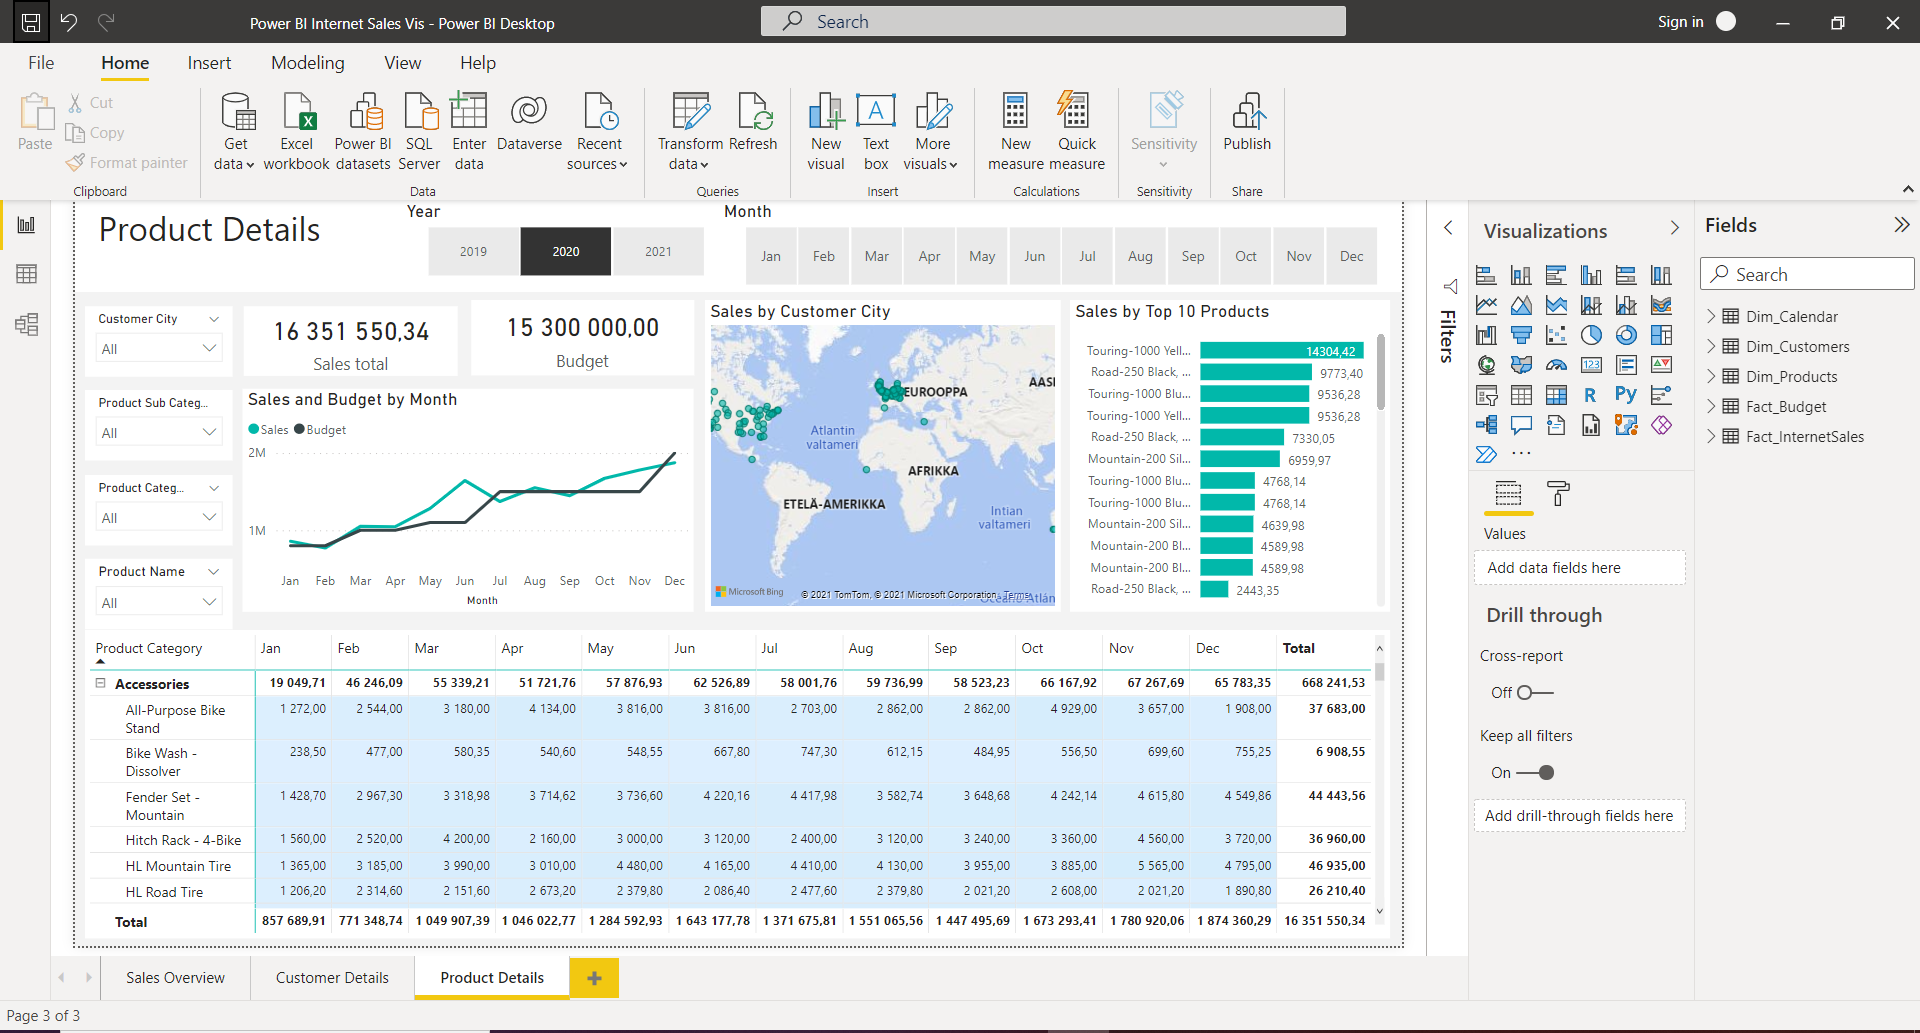

This screenshot's page, from the dashboard's own definition file:
{"tool":"powerbi","page":{"name":"Product Details","canvas":[1280,720],"ordinal":2},"visuals":[{"type":"textbox","box":[0,0,1280,88.5],"z":0},{"type":"slicer","fields":{"Values":["Dim_Customers.Customer City"]},"box":[9.5,101.9,142.7,67.9],"z":1000},{"type":"slicer","fields":{"Values":["Dim_Products.Sub Category"]},"box":[9.5,183.4,142.7,67.9],"z":2000},{"type":"slicer","fields":{"Values":["Dim_Products.Product Category"]},"box":[9.5,265,142.7,67.9],"z":3000},{"type":"slicer","fields":{"Values":["Dim_Products.Product Name"]},"box":[9.5,346.5,142.7,67.9],"z":4000},{"type":"slicer","title":"Year","fields":{"Values":["Dim_Calendar.Year"]},"box":[314.7,0,316.1,80.1],"z":5000},{"type":"slicer","title":"Month","fields":{"Values":["Dim_Calendar.MonthShort"]},"box":[621,0,659,88.5],"z":6000},{"type":"card","fields":{"Values":["Fact_InternetSales.Sales total"]},"box":[163,102.6,206.5,67.4],"z":7000},{"type":"card","fields":{"Values":["Sum(Fact_Budget.Budget)"]},"box":[382.2,96.9,215,73.1],"z":8000},{"type":"lineChart","title":"Sales and Budget by Month","fields":{"Y":["Sum(Fact_InternetSales.SalesAmount)","Sum(Fact_Budget.Budget)"],"Category":["Dim_Calendar.MonthShort"]},"box":[161.6,182.7,435.6,215],"z":9000},{"type":"barChart","title":"Sales by Top 10 Products","fields":{"Category":["Dim_Products.Product Name"],"Y":["Sum(Fact_InternetSales.SalesAmount)"]},"box":[959.6,96.9,309.1,300.7],"z":10000},{"type":"map","title":"Sales by Customer City","fields":{"Category":["Dim_Customers.Customer City"]},"box":[608.4,96.9,342.8,300.7],"z":11000},{"type":"pivotTable","fields":{"Rows":["Dim_Products.Product Category","Dim_Products.Product Name"],"Columns":["Dim_Calendar.MonthShort"],"Values":["Sum(Fact_InternetSales.SalesAmount)"]},"box":[9.8,414.5,1258.9,297.9],"z":12000}]}

Visuals, with their boxes on the page's 1280x720 design canvas (x1, y1, x2, y2). These are canvas units, not pixel positions in the 1920x1033 screenshot, which may show the page scaled, cropped or inside an application window:
textbox: x1=0, y1=0, x2=1280, y2=88
slicer - Dim_Customers.Customer City: x1=10, y1=102, x2=152, y2=170
slicer - Dim_Products.Sub Category: x1=10, y1=183, x2=152, y2=251
slicer - Dim_Products.Product Category: x1=10, y1=265, x2=152, y2=333
slicer - Dim_Products.Product Name: x1=10, y1=346, x2=152, y2=414
"Year" slicer: x1=315, y1=0, x2=631, y2=80
"Month" slicer: x1=621, y1=0, x2=1280, y2=88
card - Fact_InternetSales.Sales total: x1=163, y1=103, x2=370, y2=170
card - Sum(Fact_Budget.Budget): x1=382, y1=97, x2=597, y2=170
"Sales and Budget by Month" lineChart: x1=162, y1=183, x2=597, y2=398
"Sales by Top 10 Products" barChart: x1=960, y1=97, x2=1269, y2=398
"Sales by Customer City" map: x1=608, y1=97, x2=951, y2=398
pivotTable - Dim_Products.Product Category x Dim_Products.Product Name: x1=10, y1=414, x2=1269, y2=712
